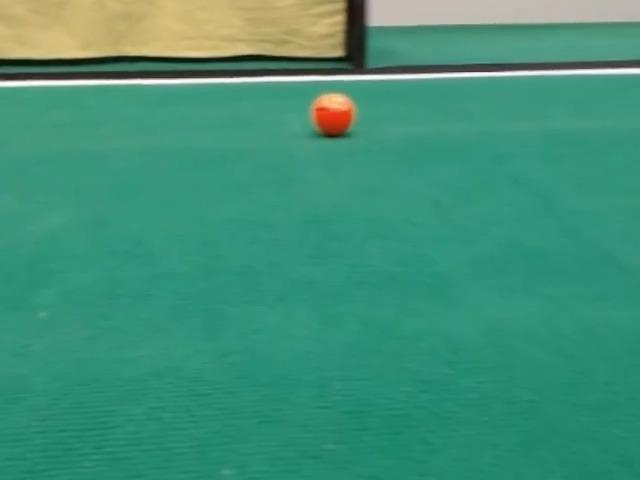Ball: (311, 93, 355, 136)
Yellow Goal: (0, 0, 371, 71)
